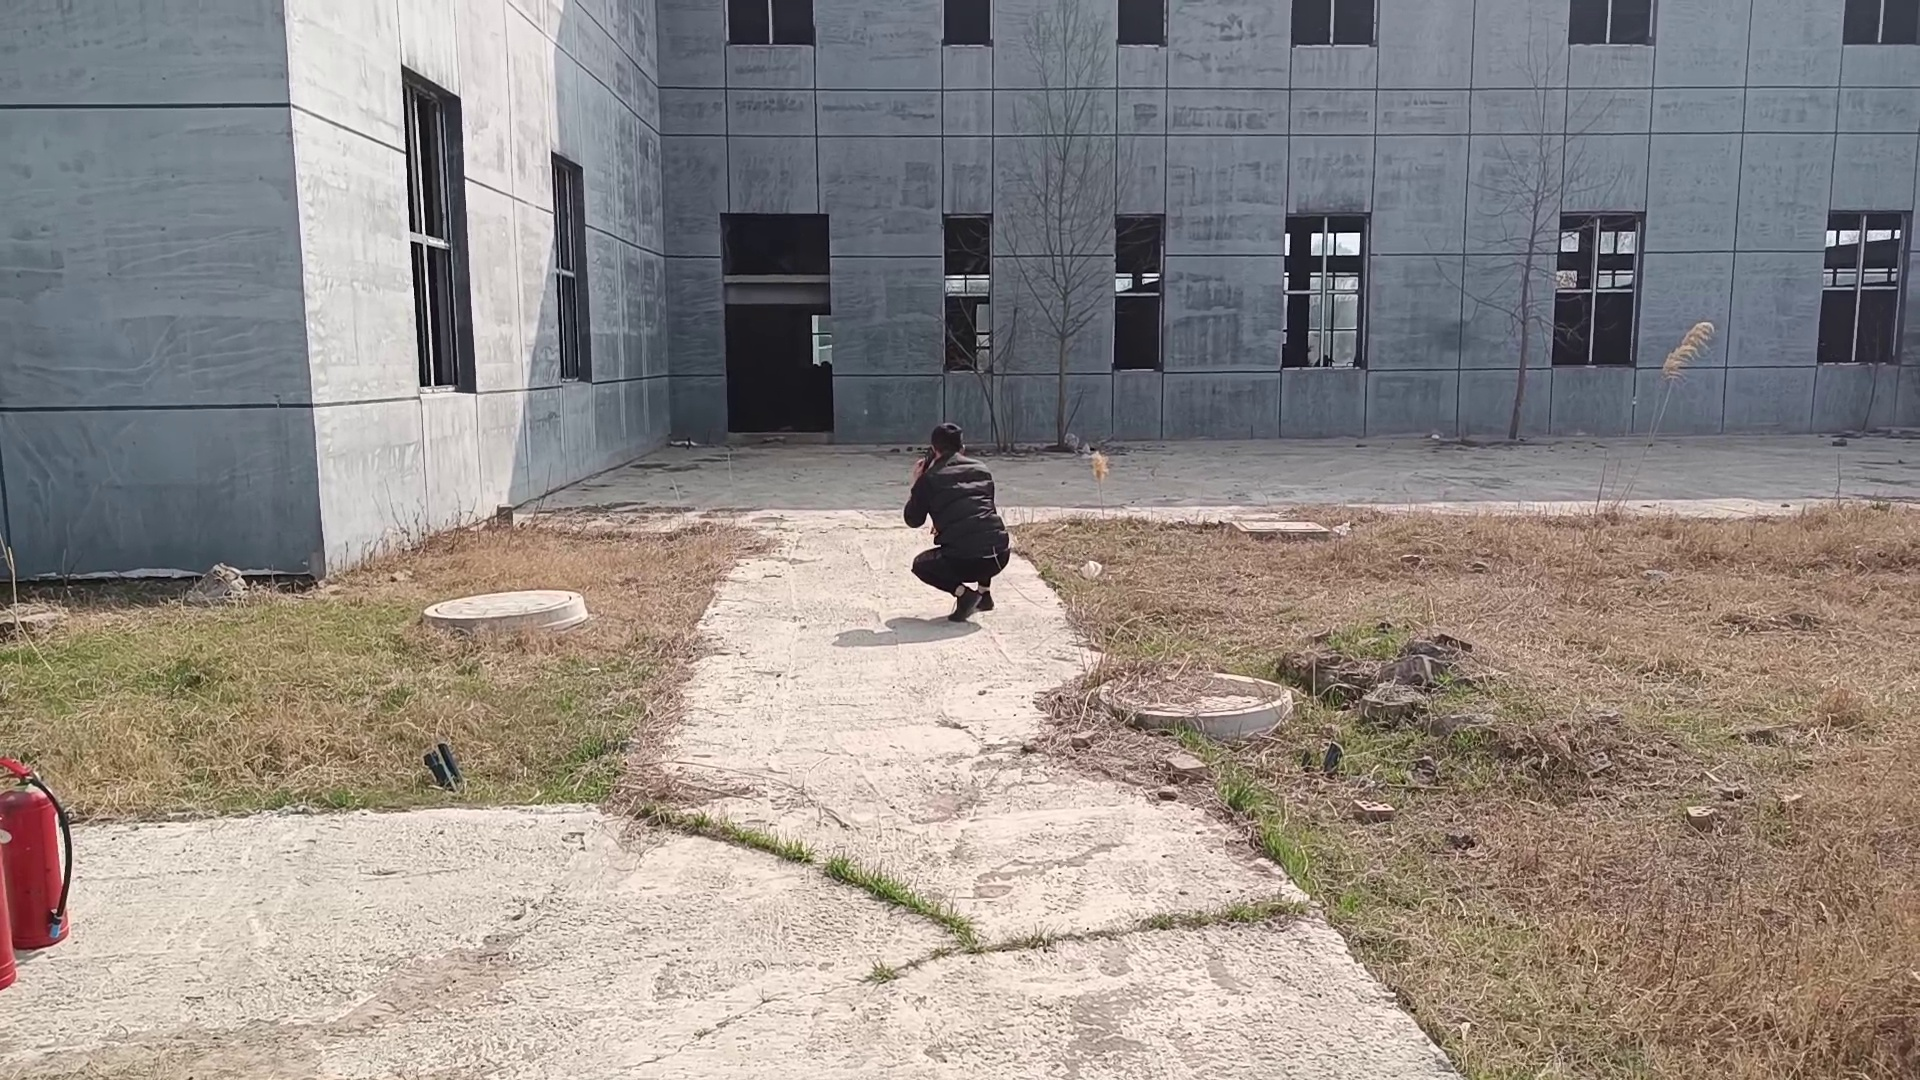phone: (915, 419, 964, 475)
